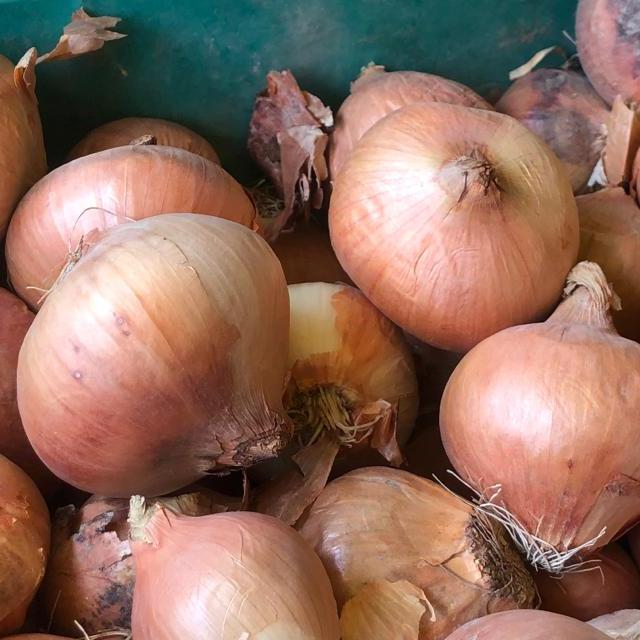onion: (0, 207, 320, 520), (422, 235, 640, 590), (320, 95, 602, 352), (82, 482, 385, 640), (0, 412, 65, 640)
